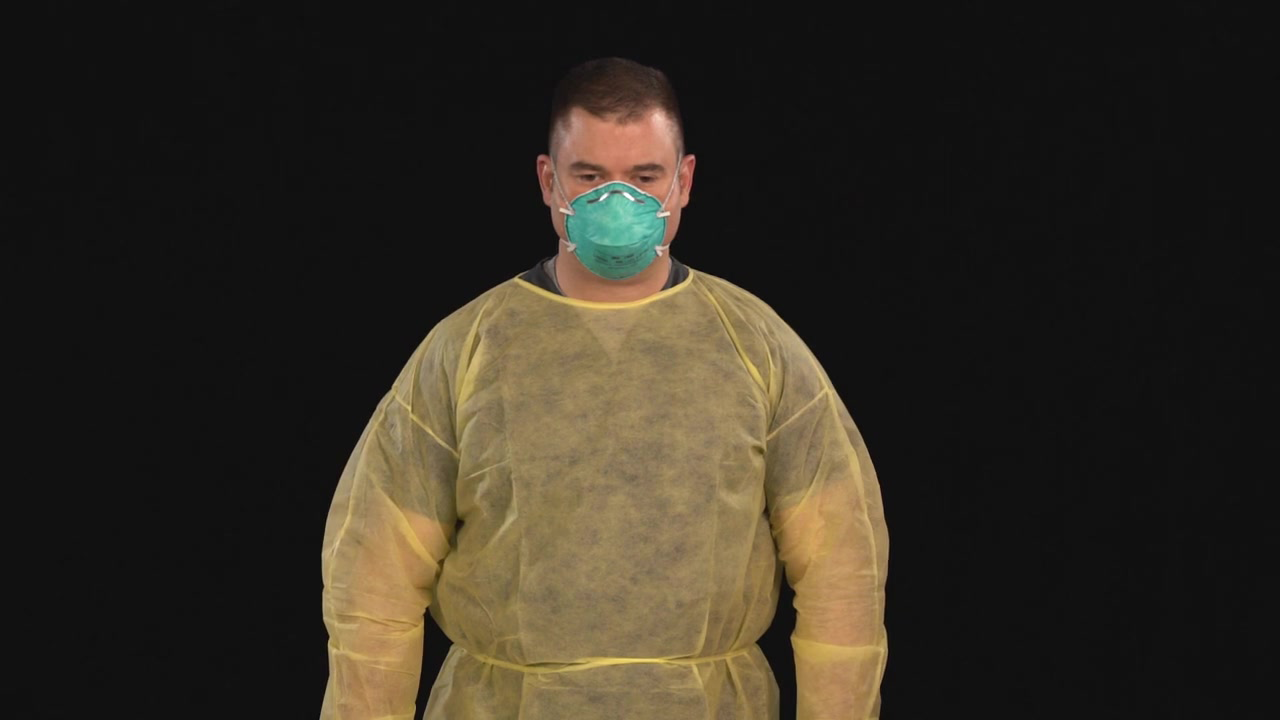Coverall: (405, 264, 866, 720)
with_mask: (566, 172, 666, 269)
